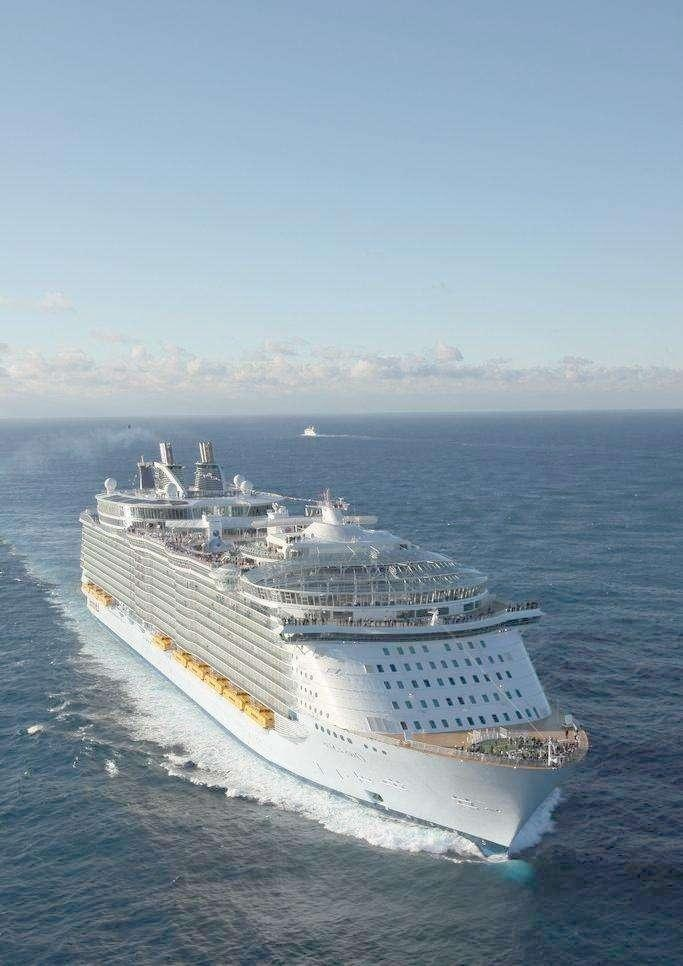youlun: (75, 450, 595, 862)
